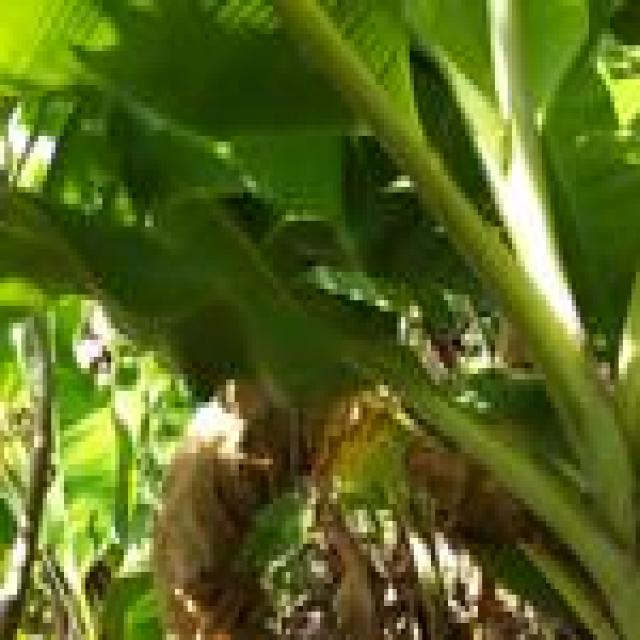Early_rust: (140, 339, 443, 640)
